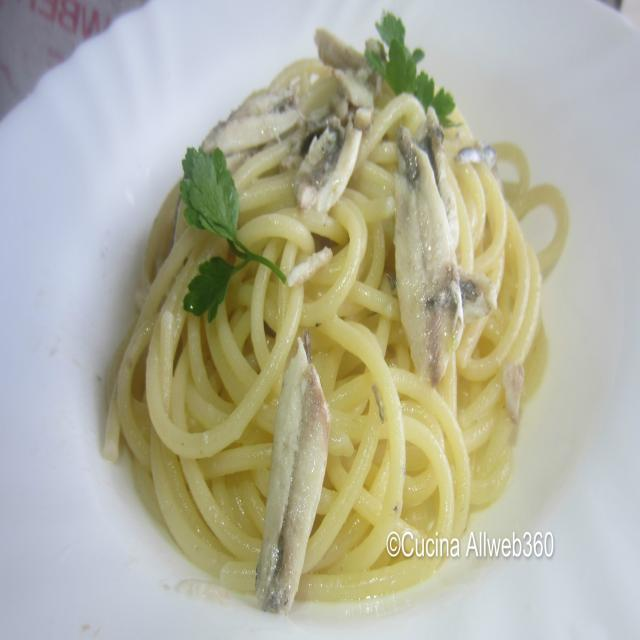Oil pasta: (119, 44, 573, 634)
